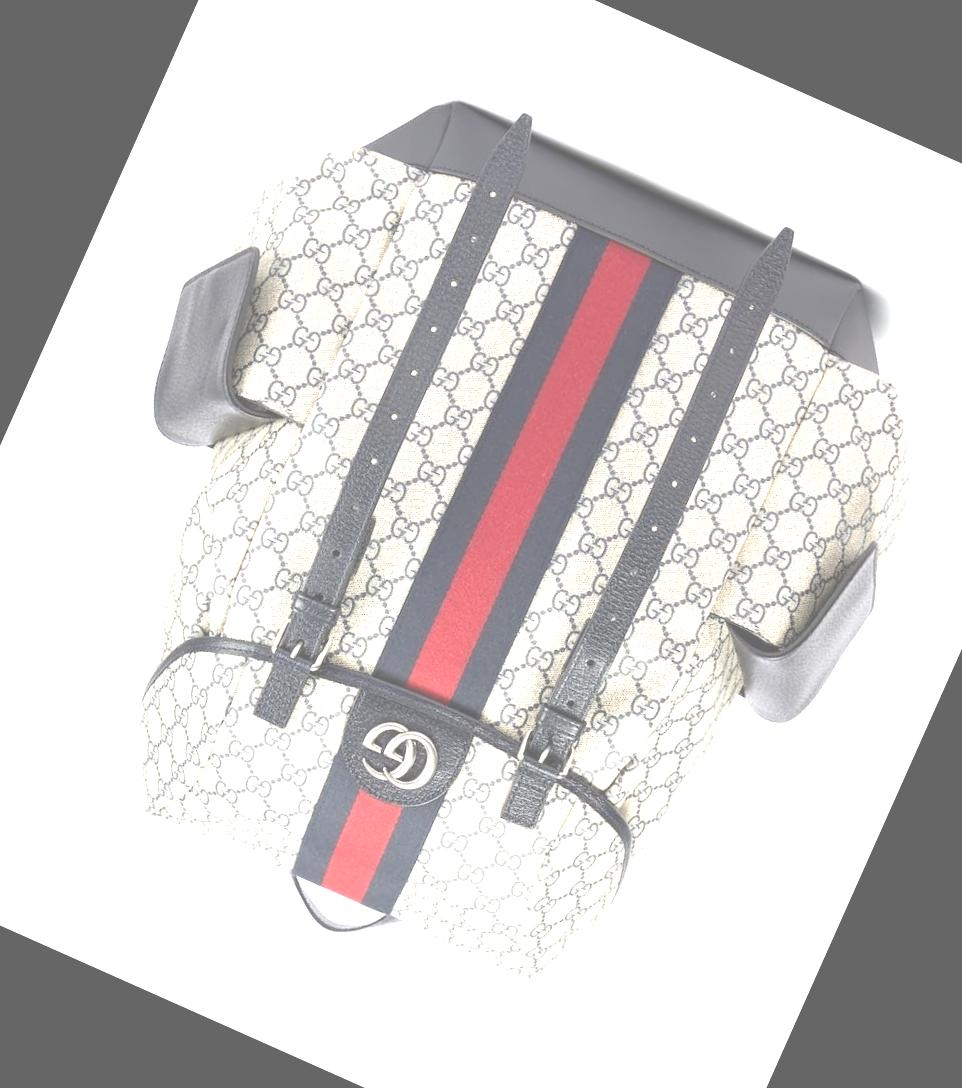GUCCI: (350, 710, 446, 798)
